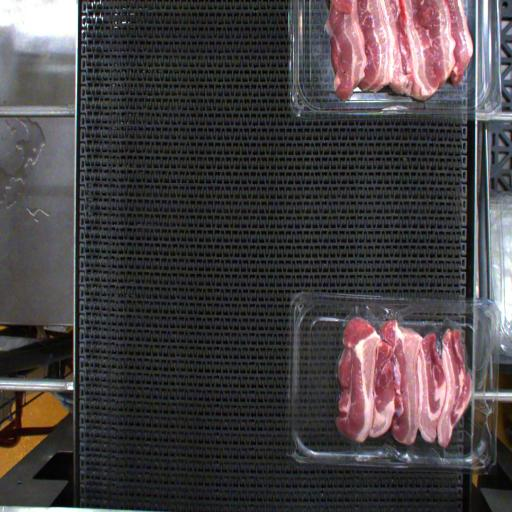unsealed: (336, 299, 494, 461)
